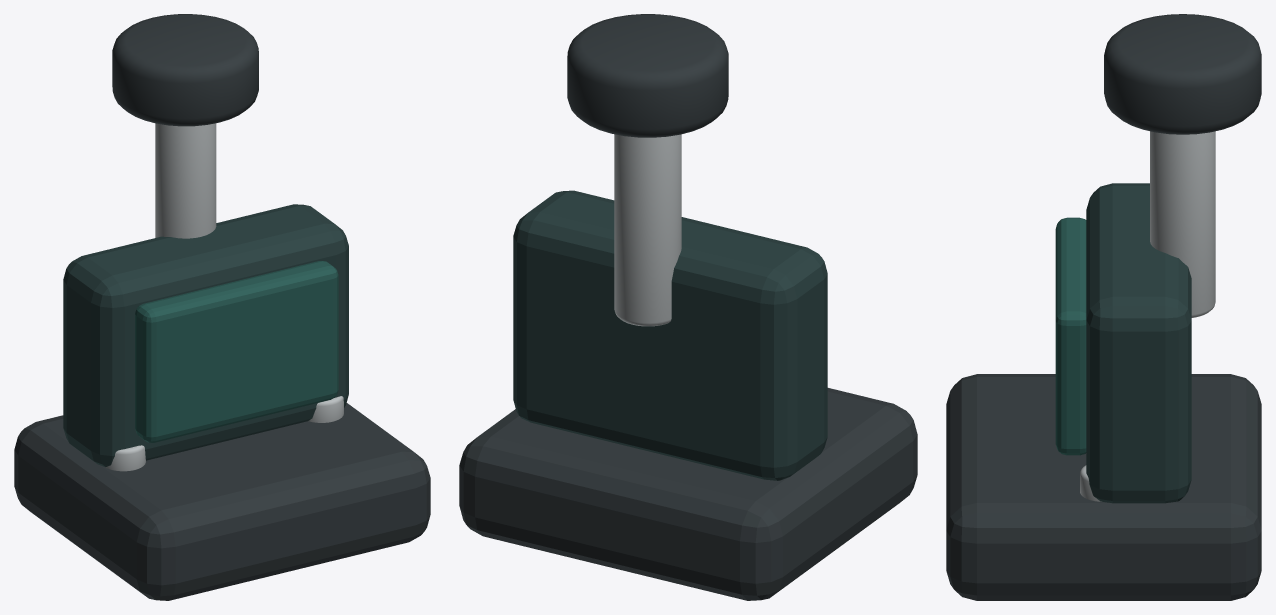
Rendered from PrecisionClamp.fbx.
3 views of the same model, side by side, from view 1: azimuth 30°, elevation 25°; view 2: azimuth 150°, elevation 25°; view 3: azimuth 270°, elevation 25° (orthographic). The views are drawn at different scales.
Visible parts, largest first — view 1: ClampBase, ClampJaw, SoftJawInsert, Knob, LeadScrew, ClampFastener, ClampFastener.001; view 2: ClampJaw, ClampBase, Knob, LeadScrew; view 3: ClampBase, ClampJaw, Knob, LeadScrew, SoftJawInsert.
Boxes of the visible parts, x1,y1,x2,y2 form: ClampBase: (14, 403, 430, 600); ClampJaw: (63, 204, 348, 467); SoftJawInsert: (135, 261, 338, 442); Knob: (112, 14, 258, 126); LeadScrew: (155, 123, 216, 238); ClampFastener: (105, 445, 145, 471); ClampFastener.001: (308, 396, 343, 422); ClampJaw: (513, 190, 827, 480); ClampBase: (459, 388, 917, 600); Knob: (567, 14, 728, 137); LeadScrew: (614, 134, 681, 326); ClampBase: (946, 374, 1261, 600); ClampJaw: (1086, 183, 1191, 503); Knob: (1104, 14, 1261, 134); LeadScrew: (1150, 131, 1215, 317); SoftJawInsert: (1055, 217, 1086, 455).
Bounding box in the file's own units: 0.82 × 1.24 × 0.72.
